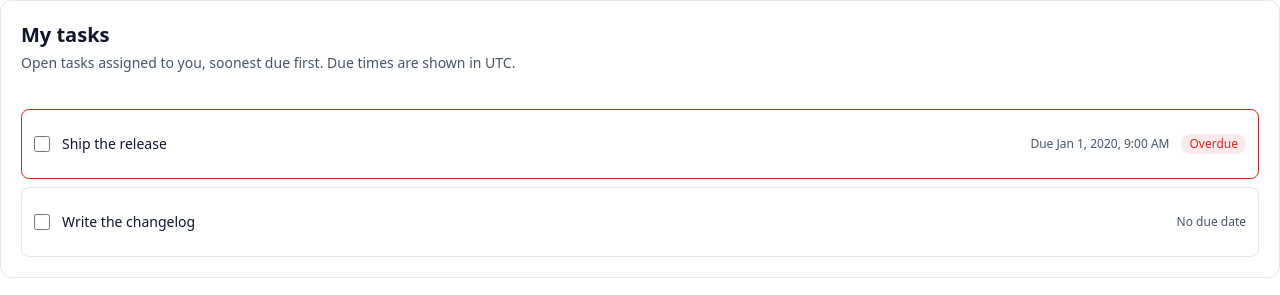
MyTasksWidget › completes a task and invalidates the whole workspace task root
What coordinates should you click on to do the following:
click the checkbox named "Complete Ship the release" next to "Ship the release"
I would click on:
 (42, 144)
Its box is [34,136,50,152].
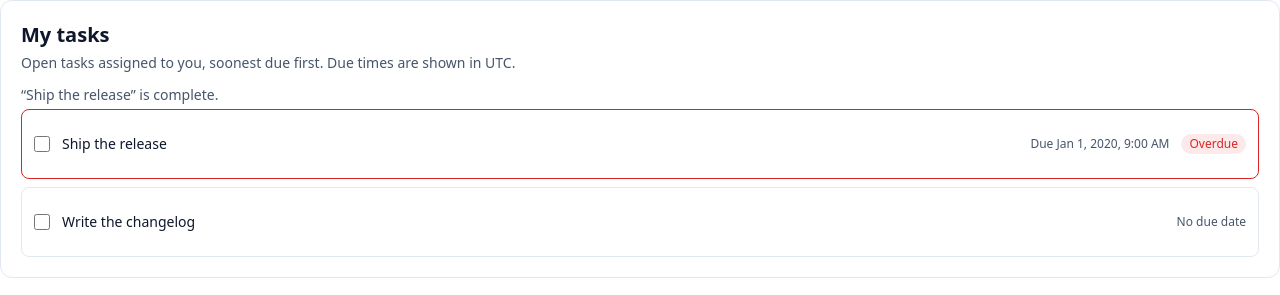
Expected: the text "“Ship the release” is complete." is shown, [21,85,218,104]
